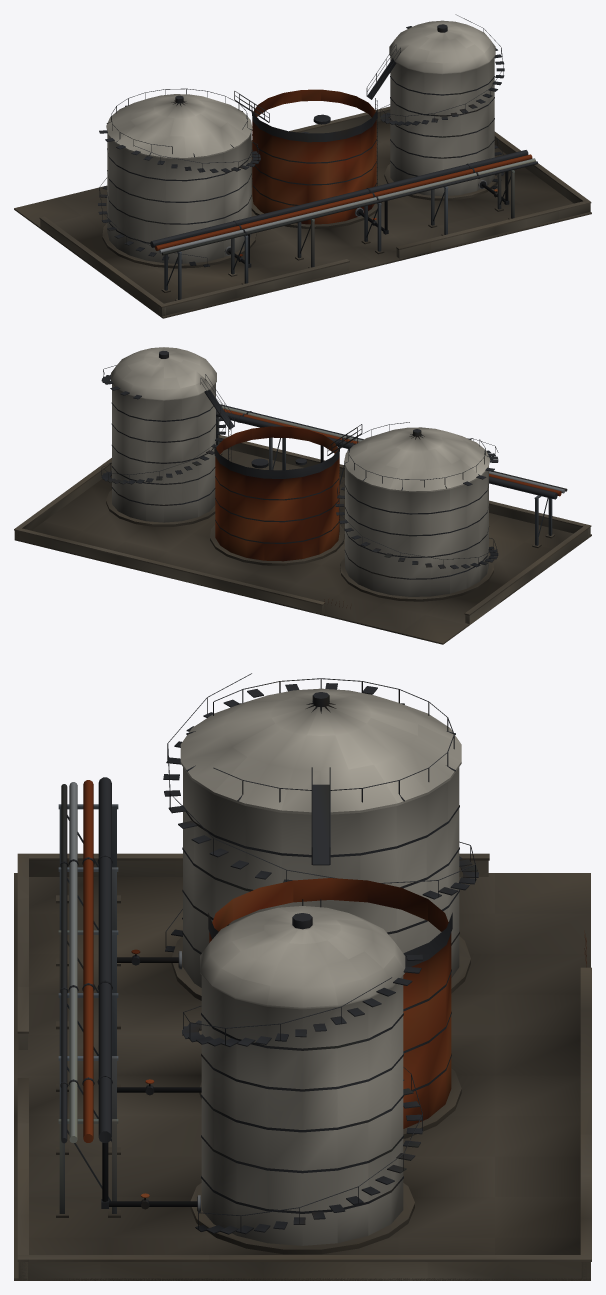
Rendered from industrial_tanks.glb.
3 renders of one model, top to bottom at view 1: azimuth 30°, elevation 25°; view 2: azimuth 150°, elevation 25°; view 3: azimuth 270°, elevation 25°, orthographic. The views are drawn at different scales.
Visible parts, largest first — view 1: concrete_dark, paint, paint2, rust, metal_dark, concrete, steel_beam, metal_bare; view 2: concrete_dark, paint, paint2, rust, metal_dark, concrete, steel_beam, metal_bare; view 3: concrete_dark, paint2, paint, metal_dark, rust, concrete, steel_beam, metal_bare.
Boxes of the visible parts, x1,y1,x2,y2 form: concrete_dark: [14, 106, 591, 318]; paint: [106, 94, 252, 263]; paint2: [389, 20, 495, 196]; rust: [155, 89, 532, 256]; metal_dark: [98, 14, 537, 267]; concrete: [40, 110, 590, 317]; steel_beam: [164, 170, 514, 299]; metal_bare: [159, 158, 535, 255]; concrete_dark: [14, 435, 591, 644]; paint: [344, 427, 490, 596]; paint2: [111, 347, 216, 522]; rust: [215, 409, 561, 561]; metal_dark: [101, 351, 567, 579]; concrete: [14, 441, 590, 624]; steel_beam: [216, 417, 552, 545]; metal_bare: [221, 406, 564, 493]; concrete_dark: [14, 853, 591, 1280]; paint2: [200, 906, 405, 1245]; paint: [180, 688, 461, 987]; metal_dark: [60, 673, 478, 1234]; rust: [83, 780, 451, 1197]; concrete: [18, 860, 590, 1280]; steel_beam: [58, 804, 118, 1213]; metal_bare: [69, 782, 200, 1212].
Size of what is drawn, in the model's own units: 51.6 by 17.36 by 31.05.
